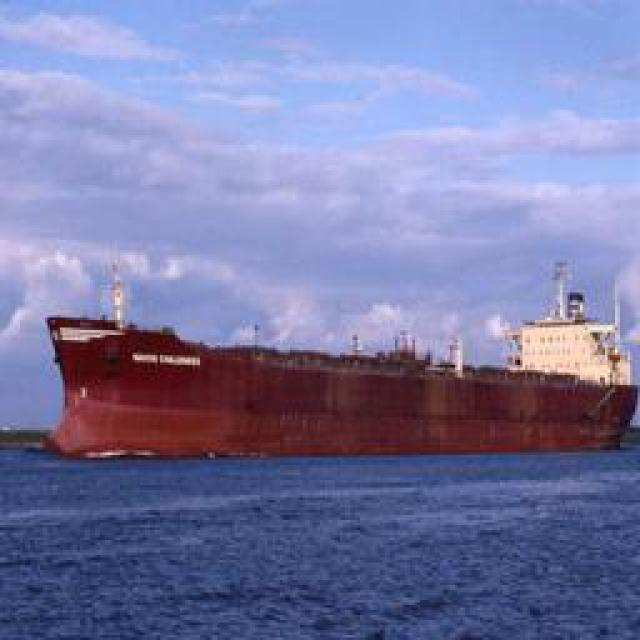Ship: (44, 310, 639, 465)
